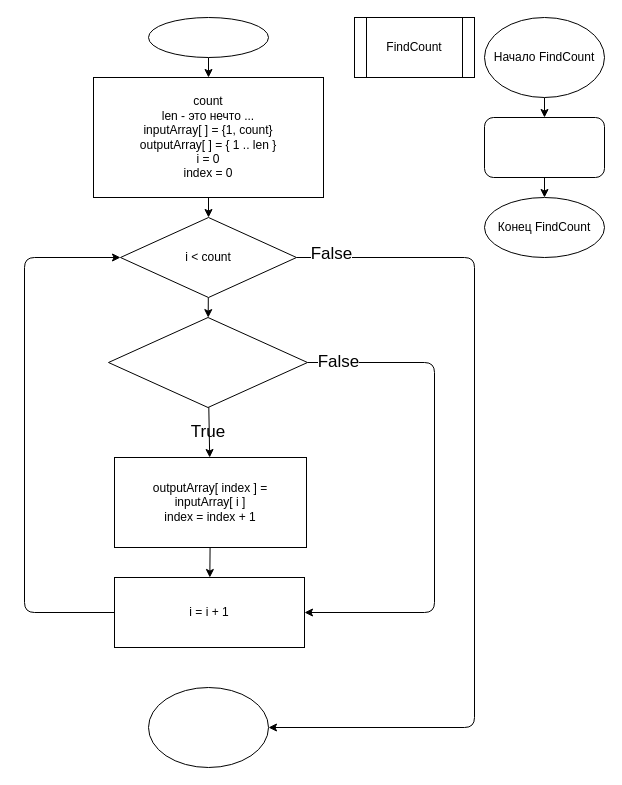
Some shapes in this 622 by 785 pixel diagram are drawn without their labels. Each missing label, with the centre of its shape:
"End" goes at pixel 208 727.
"inputArray[ i ] mod 2 == 0" goes at pixel 208 362.
"Start" goes at pixel 208 37.
"Тело FindCounr" goes at pixel 544 147.
